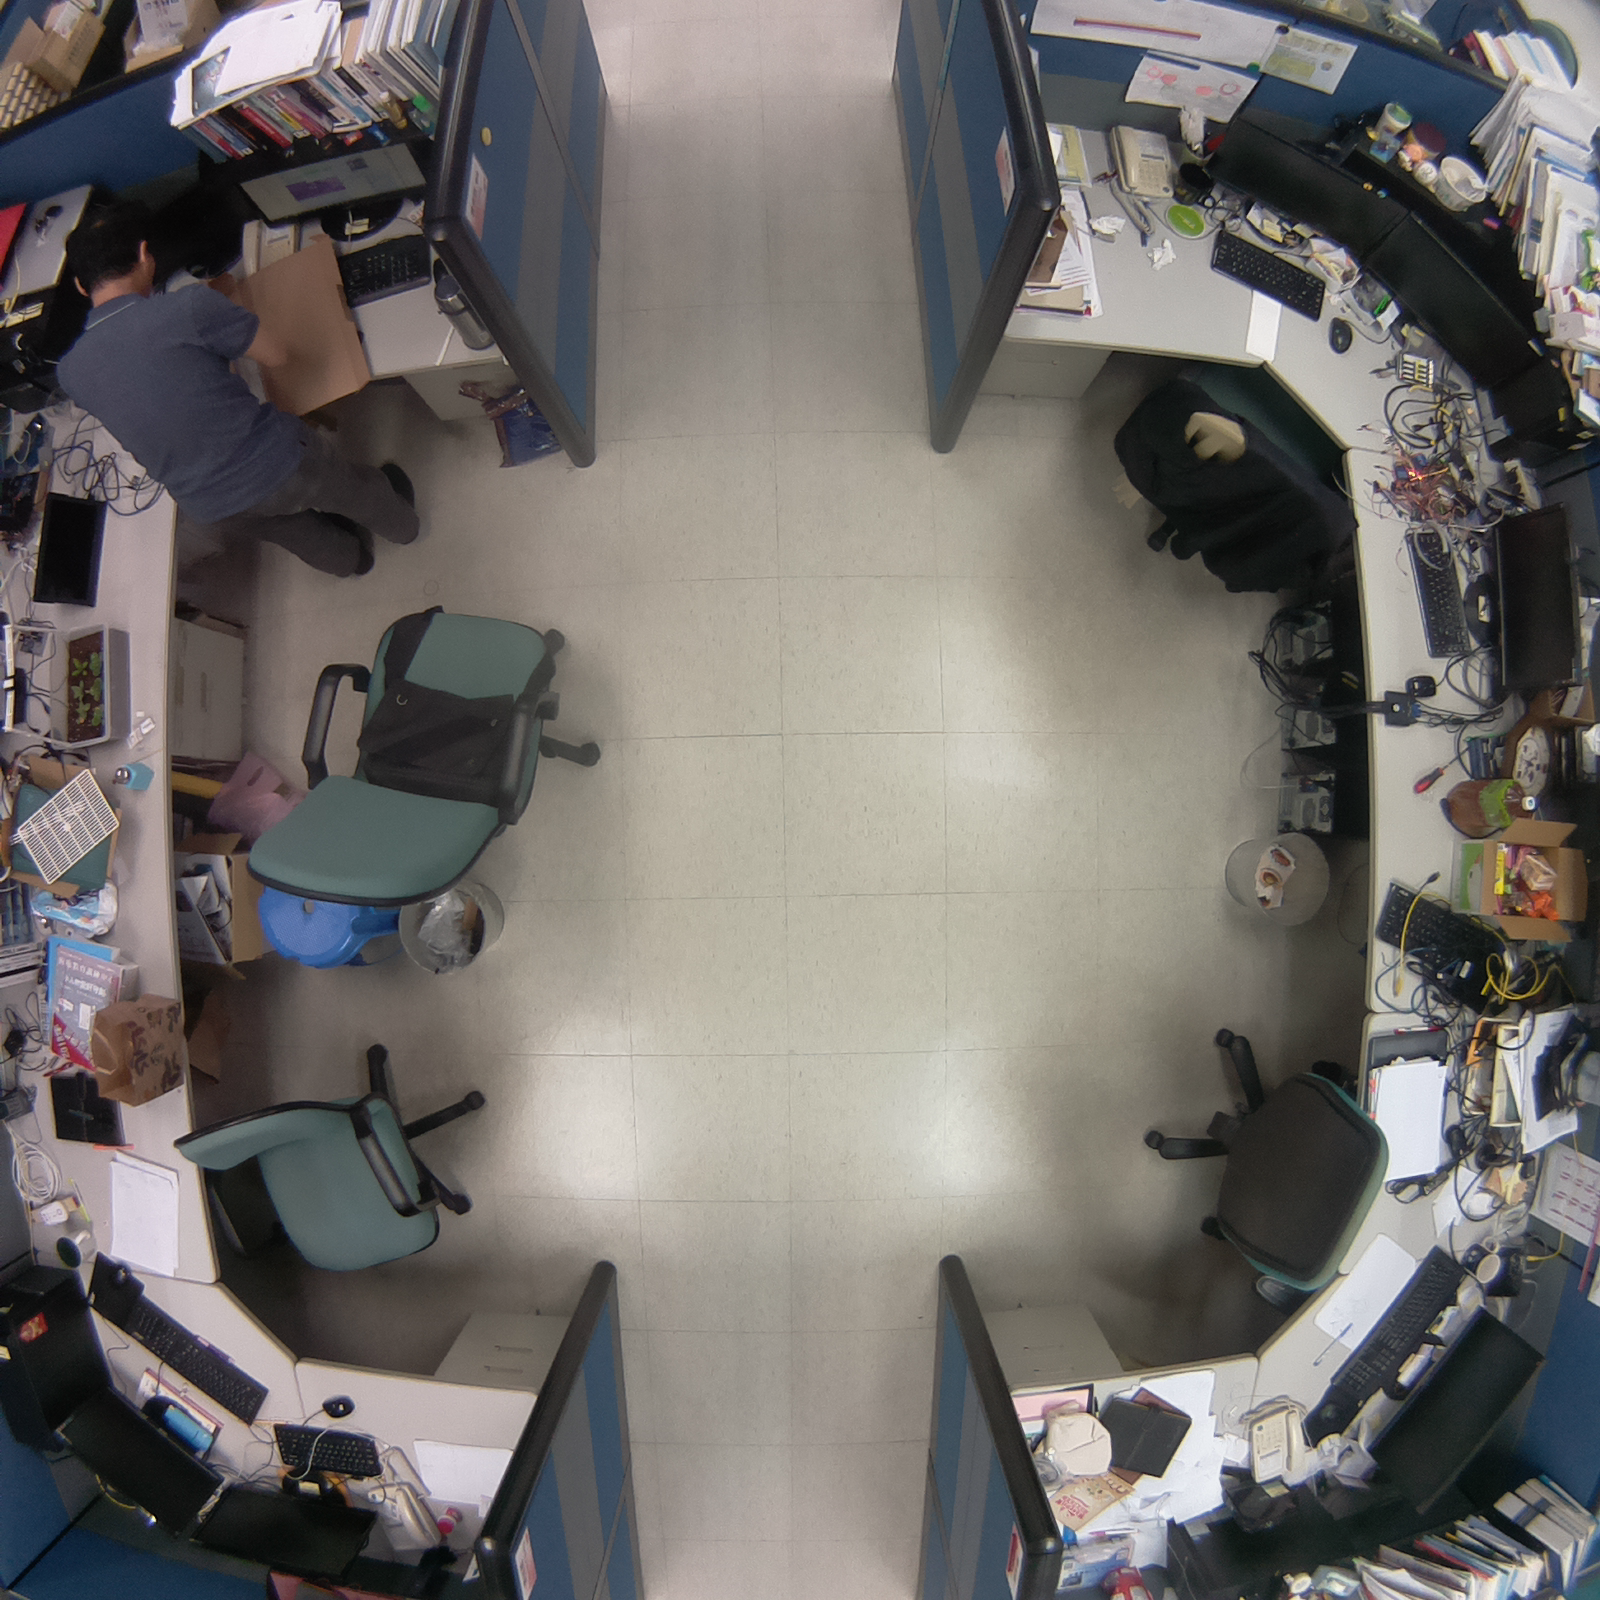chair: (227, 591, 619, 917), (168, 1034, 504, 1296), (1135, 1011, 1406, 1332), (1104, 342, 1370, 611)
head: (62, 209, 172, 297)
standing: (45, 211, 447, 586)
